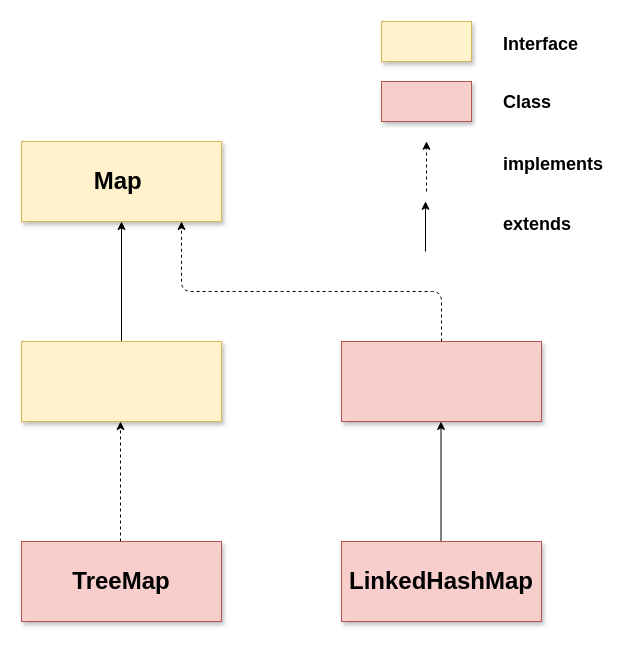
The diagram is 639 pixels wide and 646 high, and some of its shapes have lost their labels. The shapes that lost their labels are listed below. From the top down, each one's centre as x and y in pixels, then its label:
At point 122,382: "SortedMap".
At point 442,382: "HashMap".
